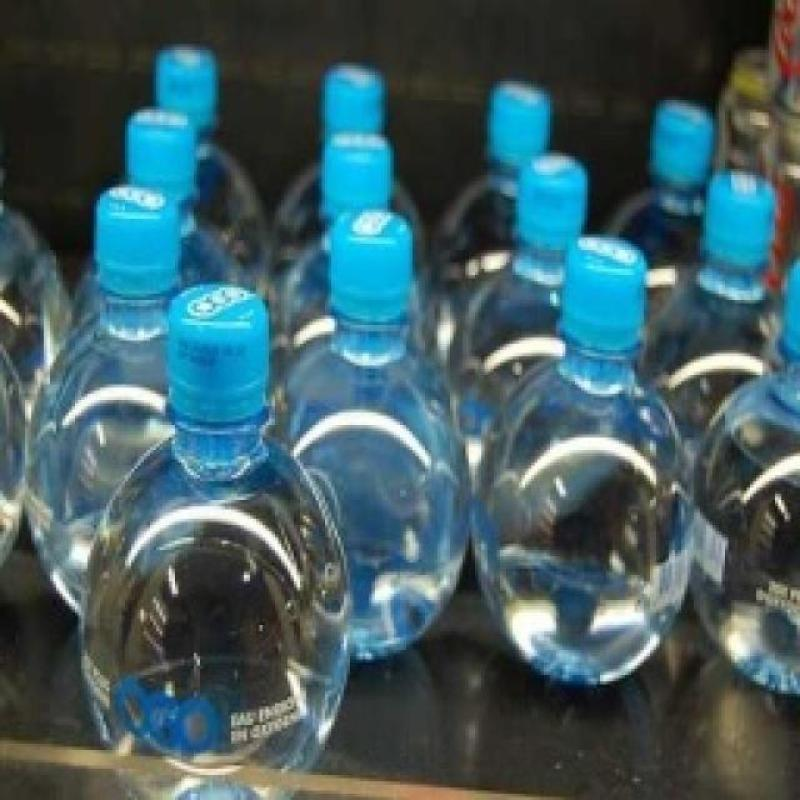botella: (77, 284, 352, 800), (472, 240, 690, 685), (278, 206, 472, 656), (30, 188, 180, 622), (694, 258, 800, 698), (642, 164, 777, 446), (460, 156, 588, 422), (148, 47, 271, 272), (276, 134, 396, 338), (441, 81, 557, 250), (123, 108, 229, 282), (594, 101, 712, 251), (0, 193, 75, 388), (0, 340, 31, 575), (317, 68, 389, 147)
